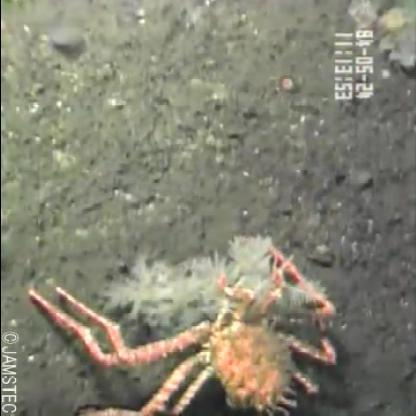Bio: (23, 227, 344, 415)
